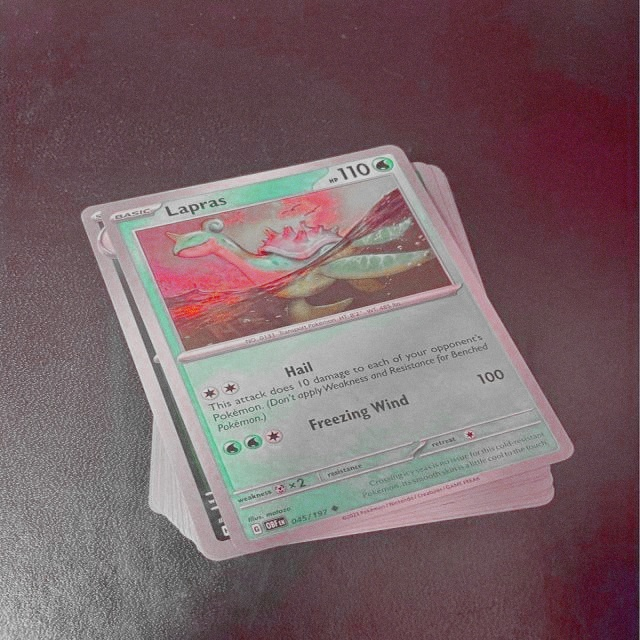card: (99, 145, 576, 552)
